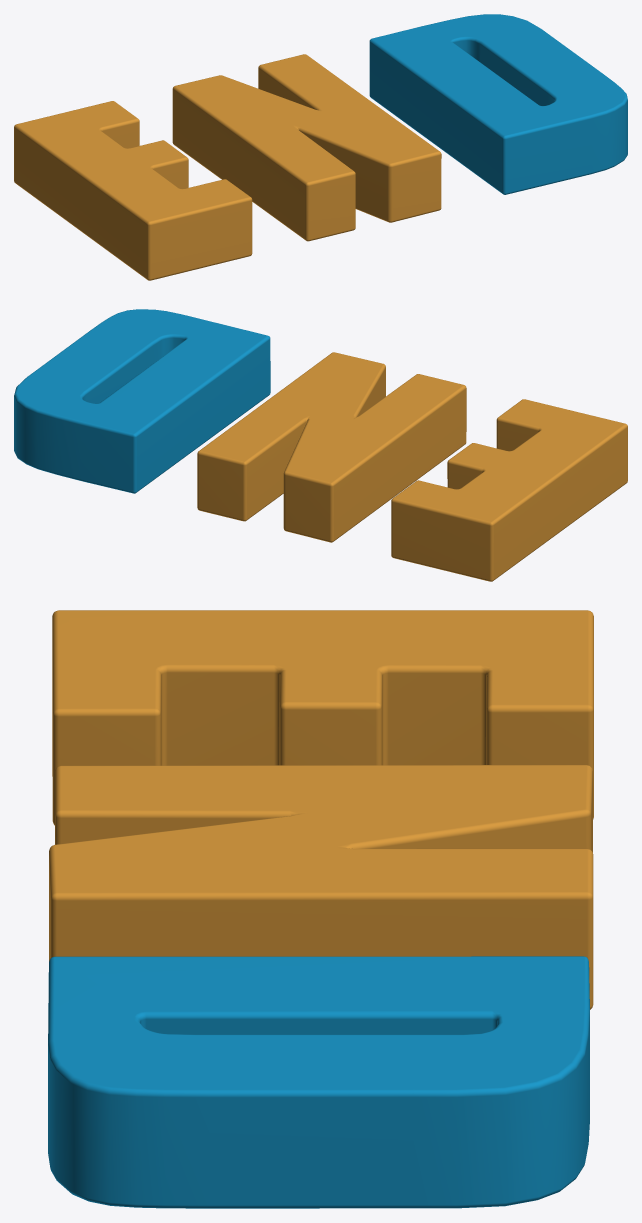
The model's file is Schrift End.fbx.
3 views of the same model, one above another, from view 1: azimuth 30°, elevation 25°; view 2: azimuth 150°, elevation 25°; view 3: azimuth 270°, elevation 25° (orthographic). The views are drawn at different scales.
Visible parts, largest first — view 1: Letter_D, Letter_N, Letter_E; view 2: Letter_D, Letter_N, Letter_E; view 3: Letter_D, Letter_N, Letter_E.
Part boxes in pixels (left/top/right/bottom): Letter_D: left=369, top=14, right=627, bottom=194; Letter_N: left=172, top=54, right=441, bottom=241; Letter_E: left=14, top=101, right=252, bottom=280; Letter_D: left=14, top=309, right=270, bottom=493; Letter_N: left=197, top=352, right=466, bottom=542; Letter_E: left=391, top=399, right=627, bottom=581; Letter_D: left=48, top=956, right=589, bottom=1208; Letter_N: left=49, top=765, right=593, bottom=1009; Letter_E: left=52, top=610, right=593, bottom=825.
Bounding box in the file's own units: 8.11 × 0.9769 × 3.86.
Materials: 3 (3 with a texture image).
